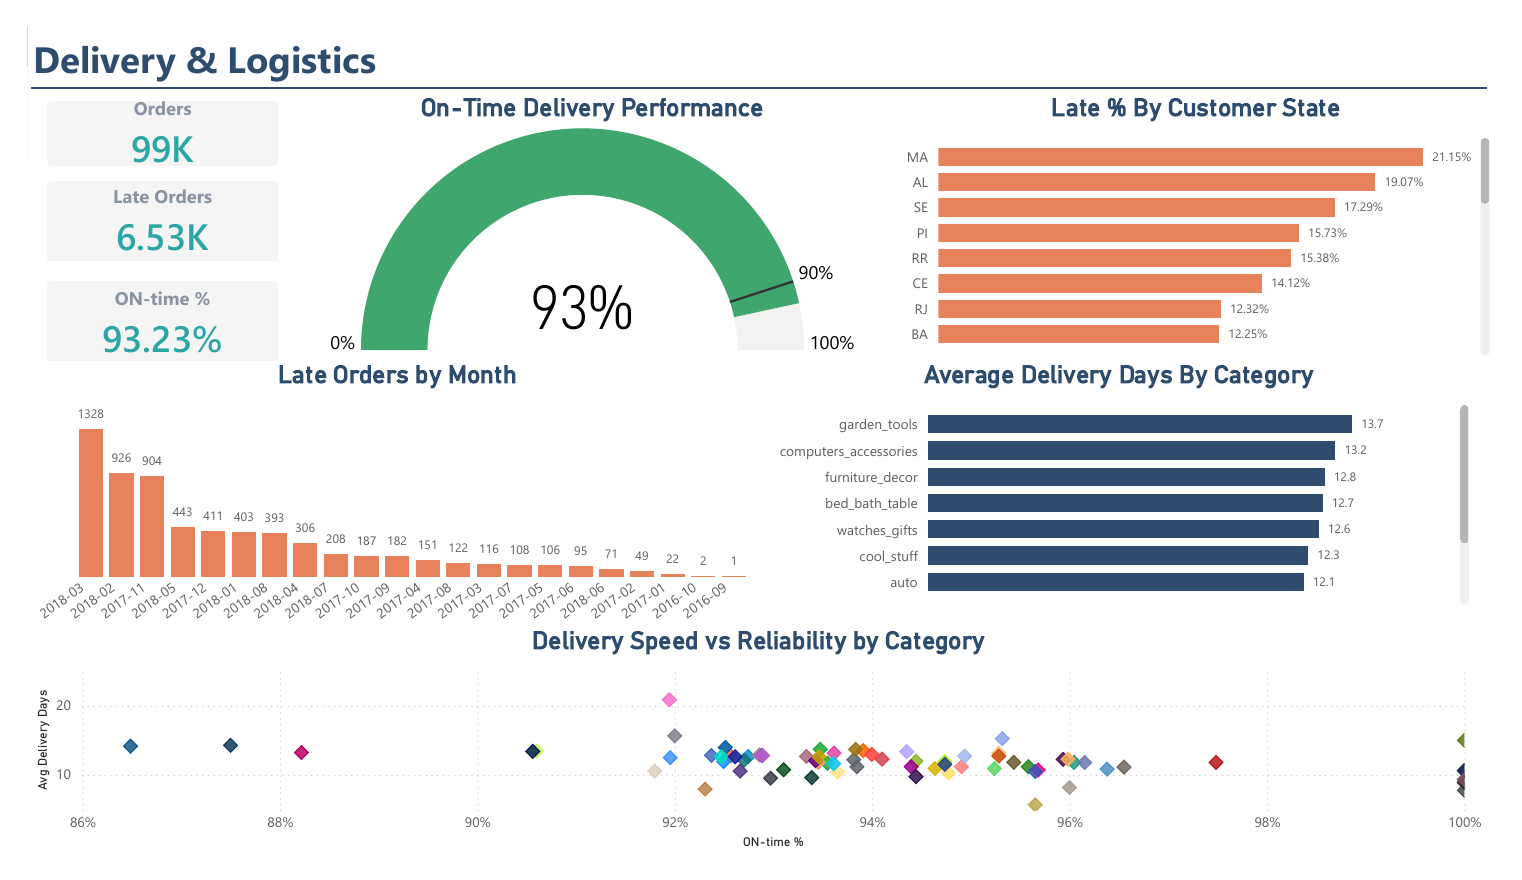

The dashboard page shown, as its layout file describes it:
{"tool":"powerbi","page":{"name":"Delivery & Logistics","canvas":[1280,720],"ordinal":4},"visuals":[{"type":"shape","box":[3.2,47,1271.1,11.3],"z":0},{"type":"textbox","box":[0,0,1280.8,53.4],"z":1000},{"type":"cardVisual","title":"Late Orders","fields":{"Data":["public bi_fact_sales.Late Orders"]},"box":[0,116.6,236.4,106.9],"z":2000},{"type":"cardVisual","title":"Total Orders","fields":{"Data":["public bi_fact_sales.Orders"]},"box":[0,47,236.4,90.7],"z":3000},{"type":"cardVisual","title":"On-time %","fields":{"Data":["public bi_fact_sales.ON-time %"]},"box":[0,204,236.4,108.5],"z":4000},{"type":"gauge","title":"On-Time Delivery Performance","fields":{"Y":["public bi_fact_sales.ON-time %"],"TargetValue":["public bi_fact_sales.On-time Target"]},"box":[226.7,58.3,532.7,233.2],"z":5000},{"type":"barChart","title":"Late % By Customer State","fields":{"Category":["public bi_fact_sales.customer_state"],"Y":["public bi_fact_sales.Late %"]},"box":[759.4,58.3,521.4,233.2],"z":6000},{"type":"columnChart","title":"Late Orders by Month","fields":{"Category":["DimDate.Year-Month"],"Y":["public bi_fact_sales.Late Orders"]},"box":[3.2,291.5,639.6,246.1],"z":7000},{"type":"barChart","title":"Average Delivery Days By Category","fields":{"Category":["public bi_fact_sales.category"],"Y":["public bi_fact_sales.Avg Delivery Days"]},"box":[642.8,291.5,620.2,217],"z":8000},{"type":"scatterChart","title":"Delivery Speed vs Reliability by Category","fields":{"X":["public bi_fact_sales.ON-time %"],"Series":["public bi_fact_sales.category"],"Y":["public bi_fact_sales.Avg Delivery Days"]},"box":[3.2,523,1271.1,197.5],"z":9000}]}

Visuals, with their boxes in screenshot pixels (x1, y1, x2, y2), scaled from the page's 1280x720 canvas onto the 1522x880 screenshot:
shape: <region>4, 57, 1515, 71</region>
textbox: <region>0, 0, 1521, 65</region>
"Late Orders" cardVisual: <region>0, 143, 281, 273</region>
"Total Orders" cardVisual: <region>0, 57, 281, 168</region>
"On-time %" cardVisual: <region>0, 249, 281, 382</region>
"On-Time Delivery Performance" gauge: <region>270, 71, 903, 356</region>
"Late % By Customer State" barChart: <region>903, 71, 1521, 356</region>
"Late Orders by Month" columnChart: <region>4, 356, 764, 657</region>
"Average Delivery Days By Category" barChart: <region>764, 356, 1502, 622</region>
"Delivery Speed vs Reliability by Category" scatterChart: <region>4, 639, 1515, 879</region>
